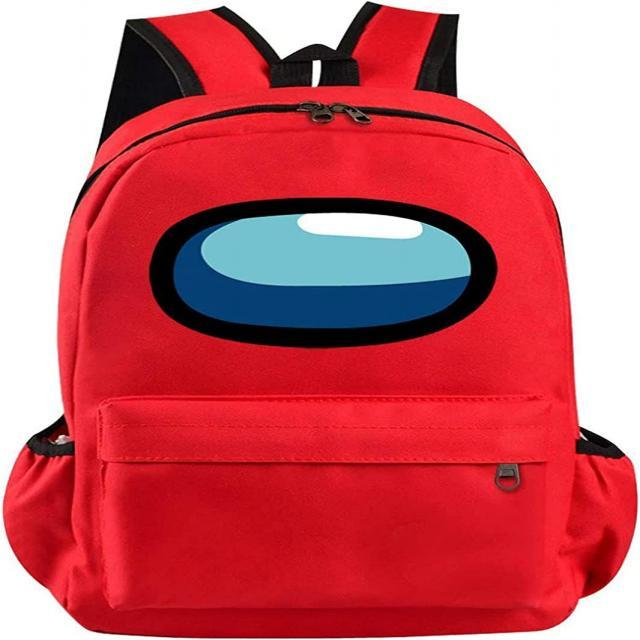Backpacks: (21, 77, 602, 638)
